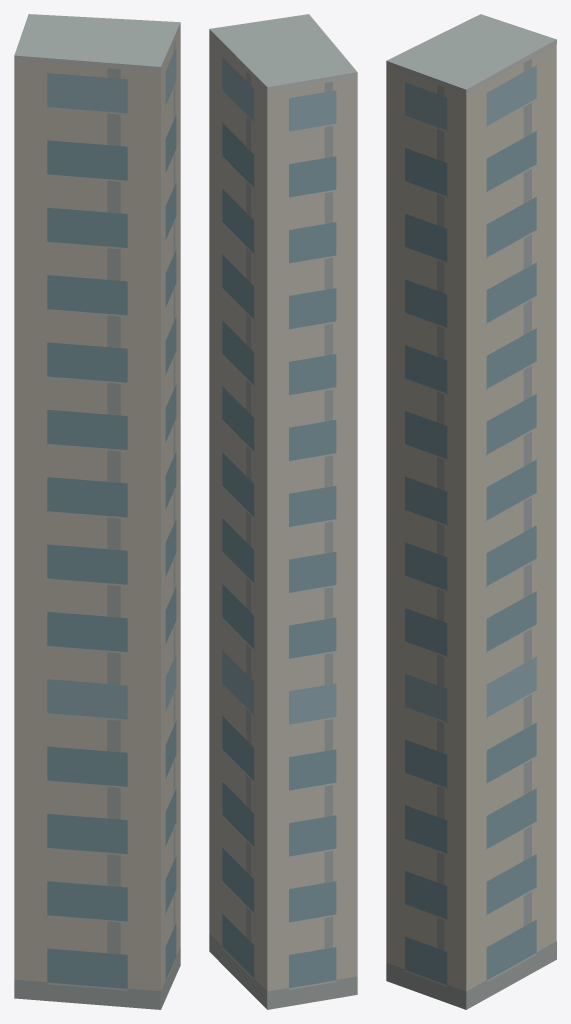
The model's file is survey-upis-32745475.glb.
3 renders of one model, left to right at view 1: azimuth 30°, elevation 25°; view 2: azimuth 150°, elevation 25°; view 3: azimuth 270°, elevation 25°, orthographic. The views are drawn at different scales.
Visible parts, largest first — view 1: survey-upis-32745475.tmp; view 2: survey-upis-32745475.tmp; view 3: survey-upis-32745475.tmp.
Part boxes in pixels (box(x1,y1,x2,y2)): survey-upis-32745475.tmp: box(14, 14, 180, 1009); survey-upis-32745475.tmp: box(209, 14, 357, 1009); survey-upis-32745475.tmp: box(386, 14, 556, 1009).
Size of the model in its own units: 7.54 by 42.7 by 7.18.
